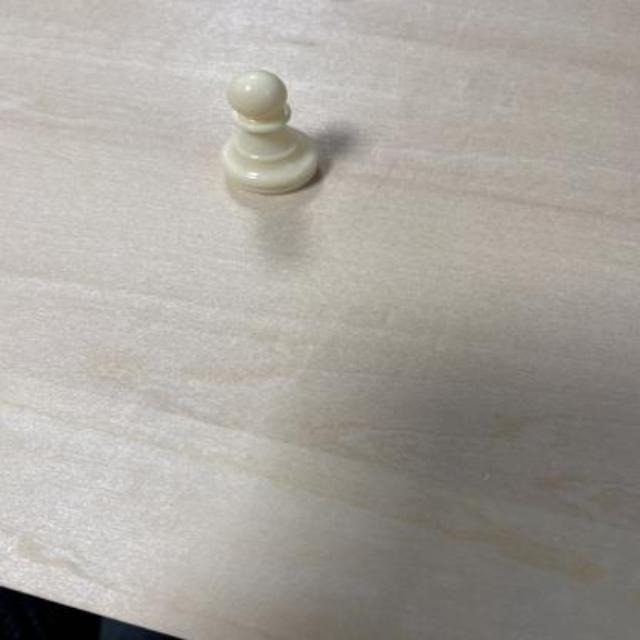white-pawn: (200, 59, 332, 205)
